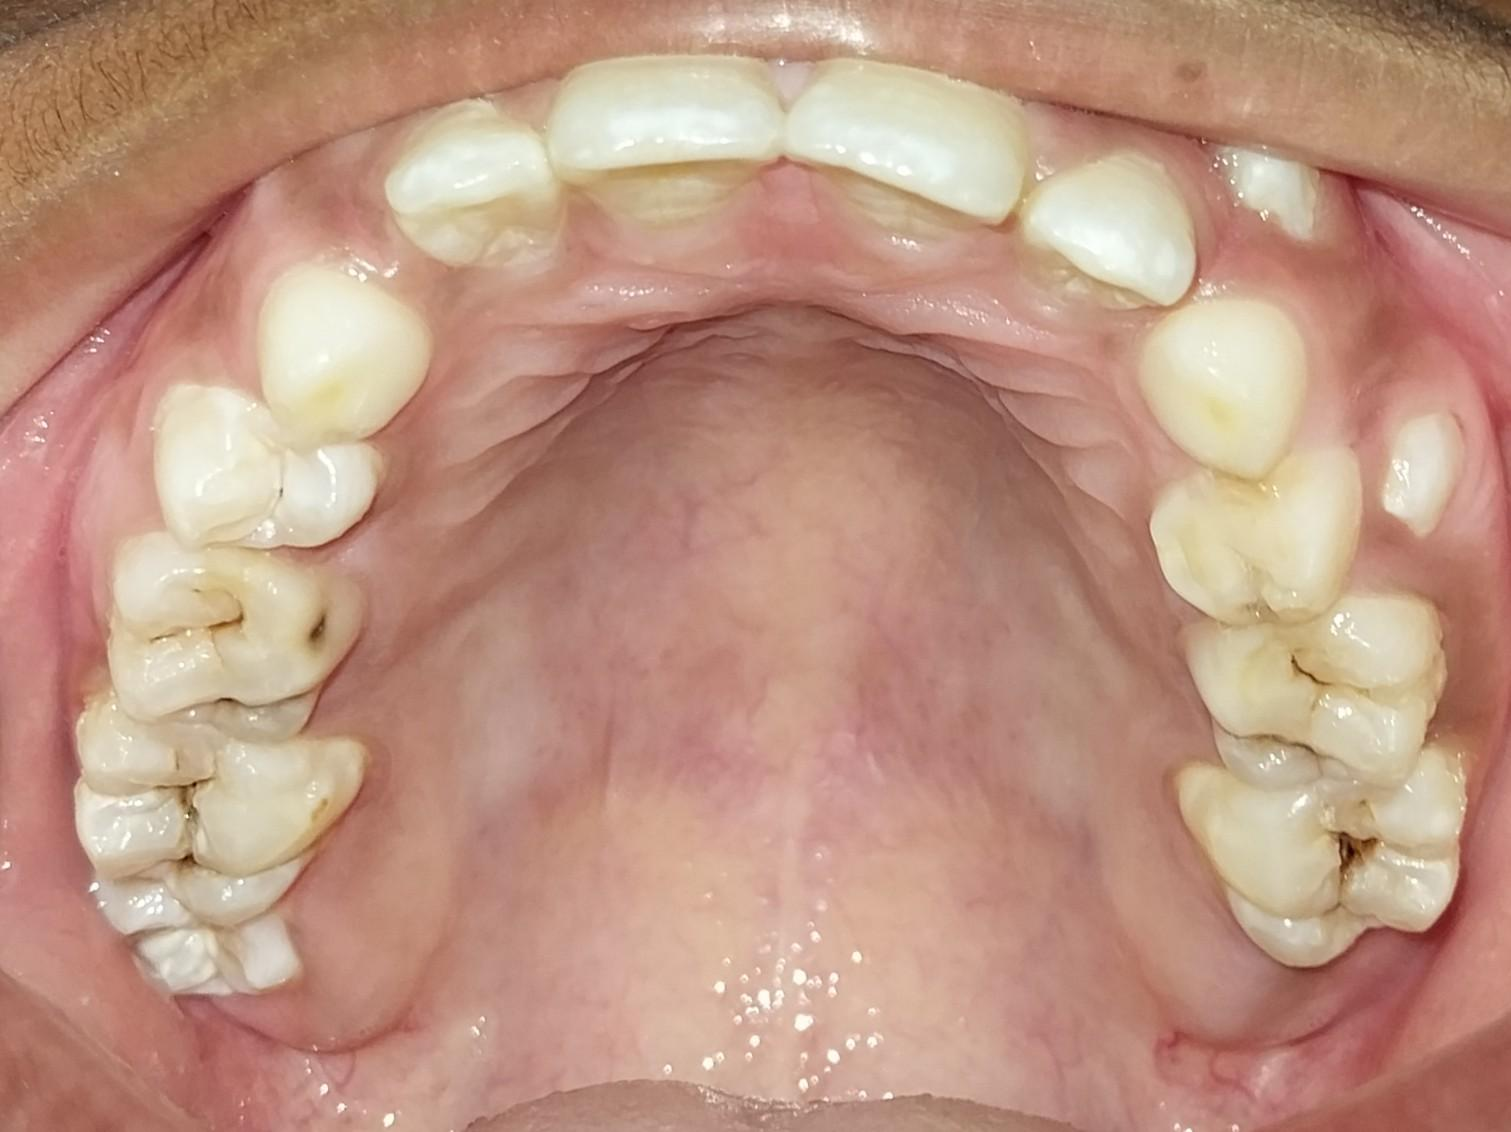D: (1179, 754, 1467, 968), (68, 722, 350, 922)
d: (97, 545, 354, 746), (1182, 607, 1442, 792)
